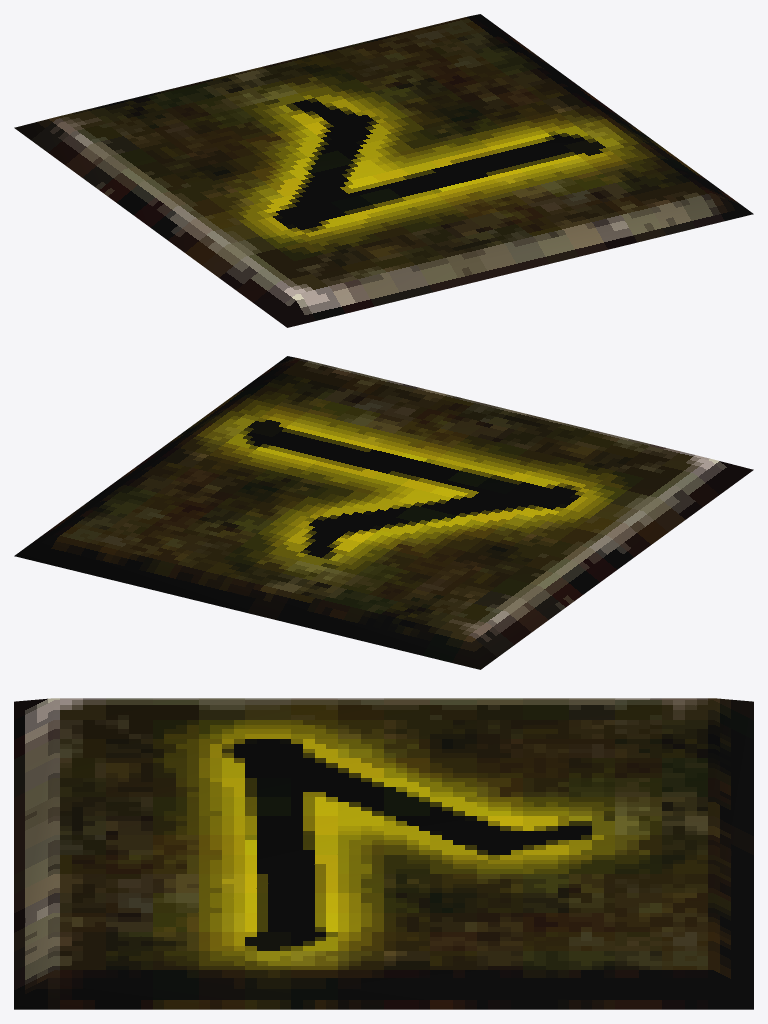
File: EREBOR_RUNE_PZL_EREBOR_PZL_TILE_ACTIVE05.fbx
3 renders of one model, top to bottom at view 1: azimuth 30°, elevation 25°; view 2: azimuth 150°, elevation 25°; view 3: azimuth 270°, elevation 25°, orthographic. The views are drawn at different scales.
Parts seen in each view (by area): view 1: EREBOR_RUNE_PZL_EREBOR_PZL_TILE_ACTIVE05; view 2: EREBOR_RUNE_PZL_EREBOR_PZL_TILE_ACTIVE05; view 3: EREBOR_RUNE_PZL_EREBOR_PZL_TILE_ACTIVE05.
Part boxes in pixels (x1,y1,x2,y2): EREBOR_RUNE_PZL_EREBOR_PZL_TILE_ACTIVE05: [14, 14, 753, 327]; EREBOR_RUNE_PZL_EREBOR_PZL_TILE_ACTIVE05: [14, 356, 753, 669]; EREBOR_RUNE_PZL_EREBOR_PZL_TILE_ACTIVE05: [14, 698, 753, 1009].
Size of the model in its own units: 9945 by 305 by 10093.
Materials: 1 (1 with a texture image).
